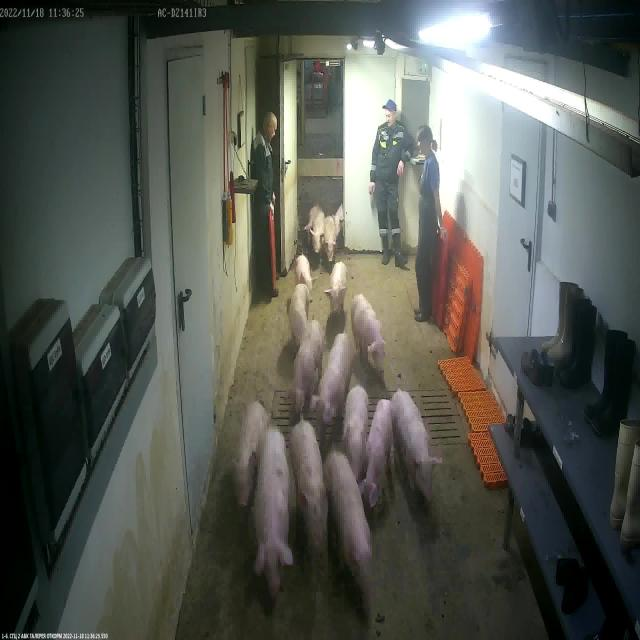pig: (326, 454, 370, 604), (254, 428, 294, 593), (396, 391, 442, 501), (291, 420, 326, 543), (358, 399, 392, 508), (283, 322, 322, 409), (235, 402, 267, 507), (312, 334, 350, 421), (352, 293, 384, 371), (344, 386, 368, 481), (324, 262, 348, 315), (289, 284, 308, 342), (296, 255, 316, 290), (310, 211, 324, 254), (323, 216, 336, 262), (305, 207, 320, 246), (332, 203, 344, 237)
